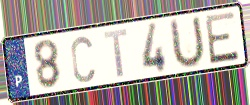4: (141, 21, 168, 75)
8: (32, 38, 64, 91)
C: (69, 34, 97, 85)
E: (203, 9, 241, 66)
T: (102, 27, 129, 79)
U: (169, 13, 207, 71)
